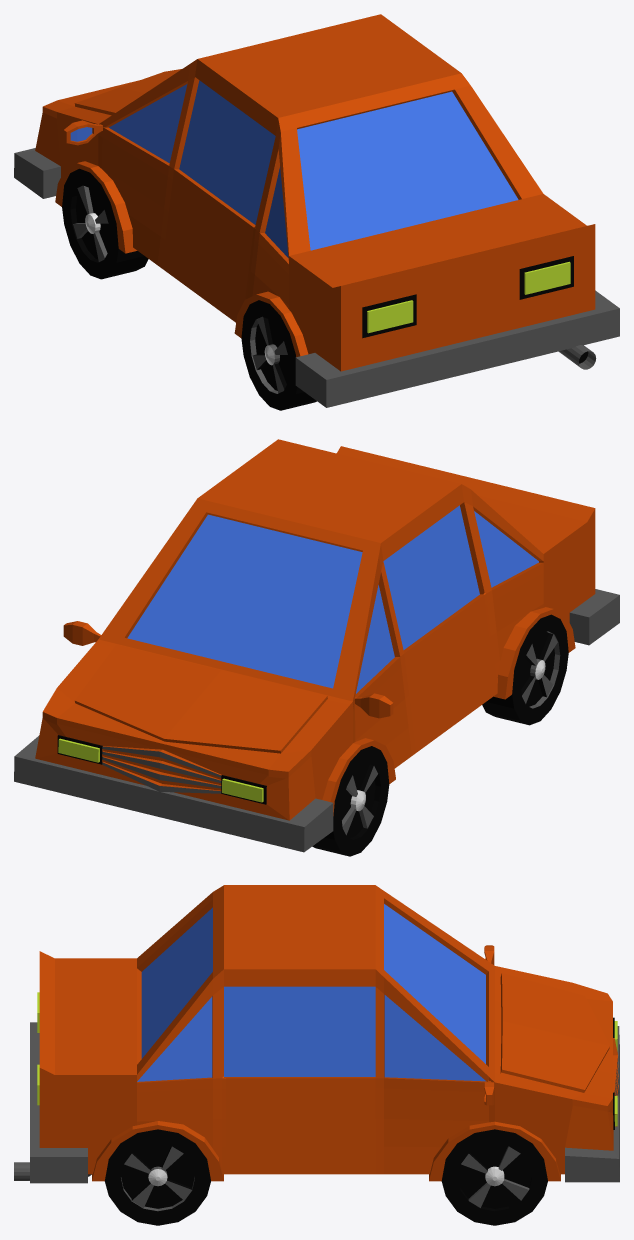
Rendered from Car_red.glb.
The picture shows the model from 3 angles, top to bottom: view 1: azimuth 30°, elevation 25°; view 2: azimuth 150°, elevation 25°; view 3: azimuth 270°, elevation 25°; orthographic projection. The views are drawn at different scales.
Parts seen in each view (by area): view 1: Car7; view 2: Car7; view 3: Car7.
Boxes of the visible parts, bbox=[...] form: Car7: bbox=[14, 14, 619, 410]; Car7: bbox=[14, 439, 619, 856]; Car7: bbox=[14, 885, 619, 1225].
Bounding box in the file's own units: 0.7311 × 0.5396 × 1.25.
